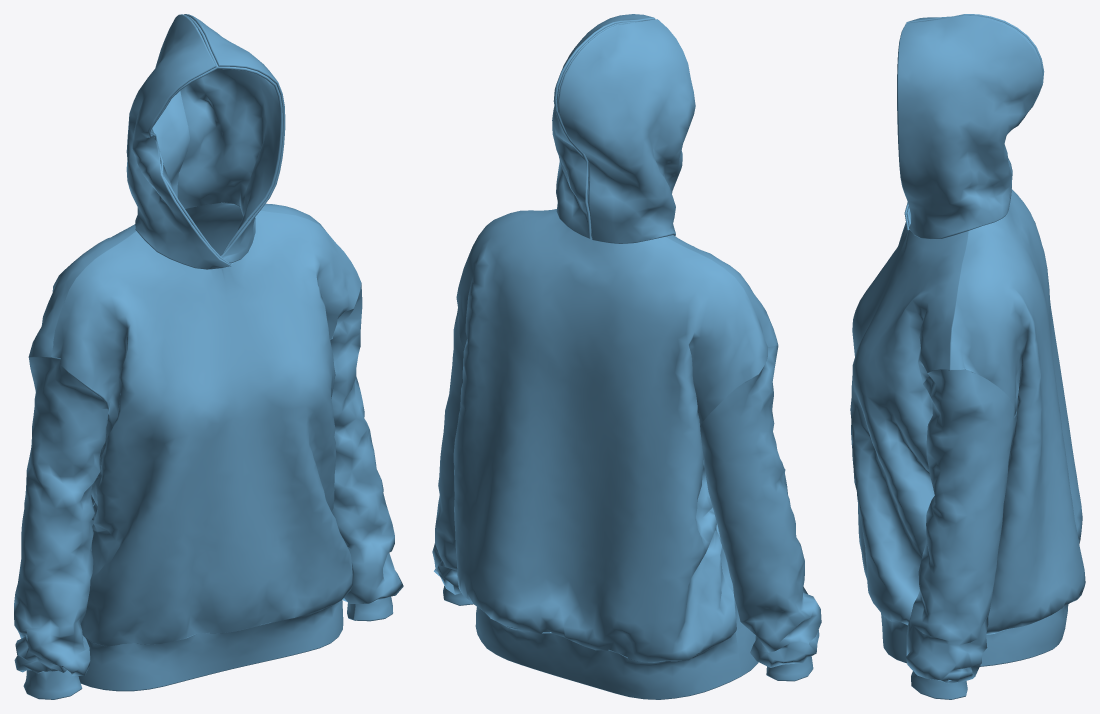
3 renders of one model, left to right at view 1: azimuth 30°, elevation 25°; view 2: azimuth 150°, elevation 25°; view 3: azimuth 270°, elevation 25°, orthographic. The views are drawn at different scales.
Parts seen in each view (by area): view 1: Pattern2D_96414, Pattern2D_94338, Pattern2D_3817911 (×2), Pattern2D_1315260 (×2), Pattern2D_103204, Pattern2D_3817910, Pattern2D_98031, Pattern2D_3742324, Pattern2D_3742323; view 2: Pattern2D_98031, Pattern2D_1315260, Pattern2D_94338, Pattern2D_3817910, Pattern2D_103204, Pattern2D_3817911, Pattern2D_96414, Pattern2D_3742324; view 3: Pattern2D_98031, Pattern2D_96414, Pattern2D_3817911, Pattern2D_103204, Pattern2D_3817910, Pattern2D_3742323, Pattern2D_1315260.
Part boxes in pixels (x1,y1,x2,y2): Pattern2D_96414: (51,210,361,646); Pattern2D_94338: (14,356,108,675); Pattern2D_3817911 (×2): (177,14,285,264); Pattern2D_1315260 (×2): (126,14,231,269); Pattern2D_103204: (330,283,403,603); Pattern2D_3817910: (78,600,343,691); Pattern2D_98031: (29,202,350,520); Pattern2D_3742324: (23,670,82,699); Pattern2D_3742323: (347,596,393,621); Pattern2D_98031: (453,209,767,662); Pattern2D_1315260: (558,19,695,243); Pattern2D_94338: (700,345,821,667); Pattern2D_3817910: (475,607,758,699); Pattern2D_103204: (432,308,464,594); Pattern2D_3817911: (552,14,655,238); Pattern2D_96414: (528,210,778,630); Pattern2D_3742324: (766,656,813,681); Pattern2D_98031: (950,189,1085,634); Pattern2D_96414: (850,222,968,625); Pattern2D_3817911: (897,15,1042,239); Pattern2D_103204: (906,368,1014,683); Pattern2D_3817910: (881,605,1068,666); Pattern2D_3742323: (911,671,967,699); Pattern2D_1315260: (904,14,1044,230).
Size of the model in its own units: 59.55 by 93.18 by 32.67.
